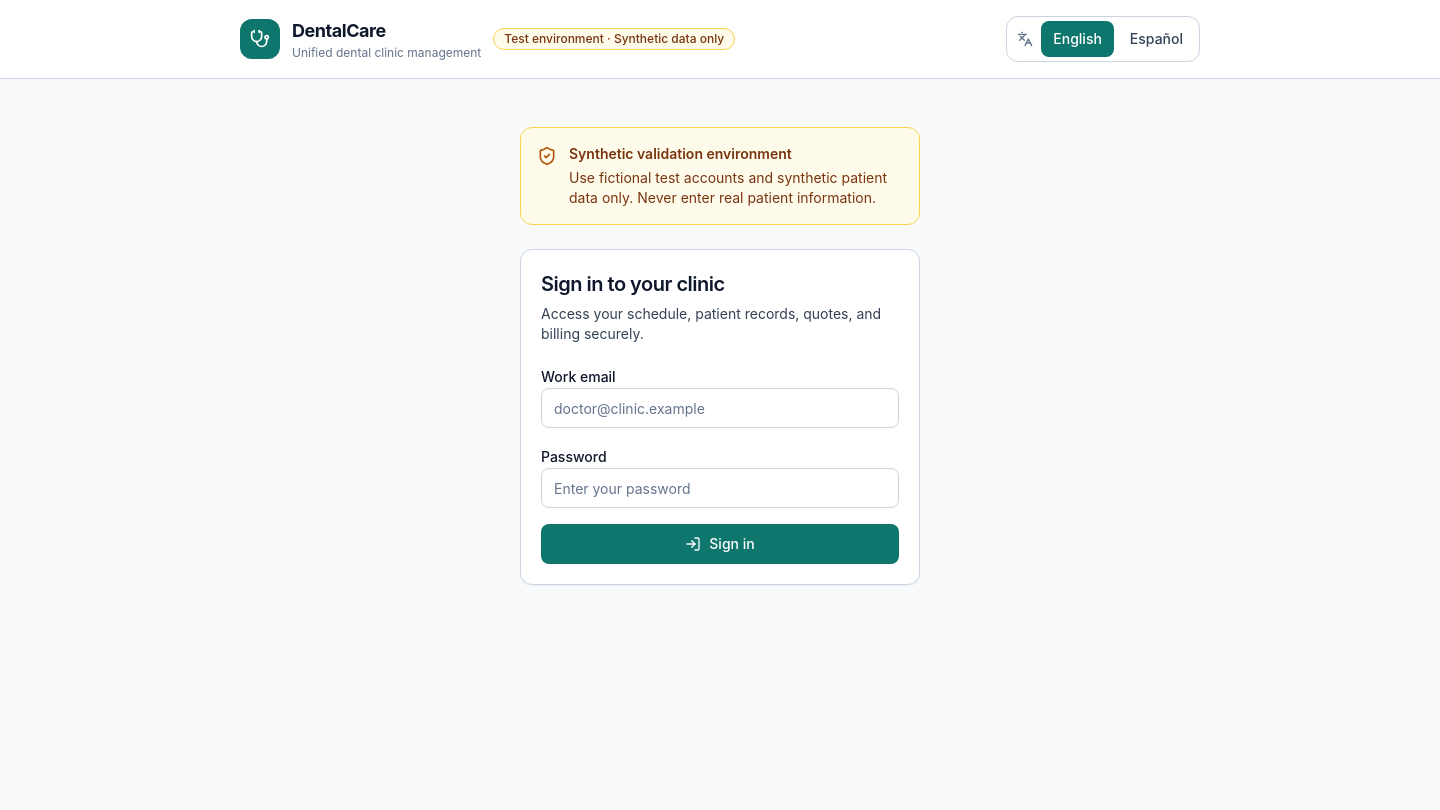
Test: T-03 Authentication, Route Protection, and Clinic Shell Flow › 3. displays clear translated error on invalid credentials in EN and ES without leaving /login
Expected: the heading "Sign in to your clinic" is shown, [541,272,725,296]
Type "wrong@dentalcare.test" into the field labelled "Work email" at {"x": 720, "y": 408}, box [541,388,899,428]
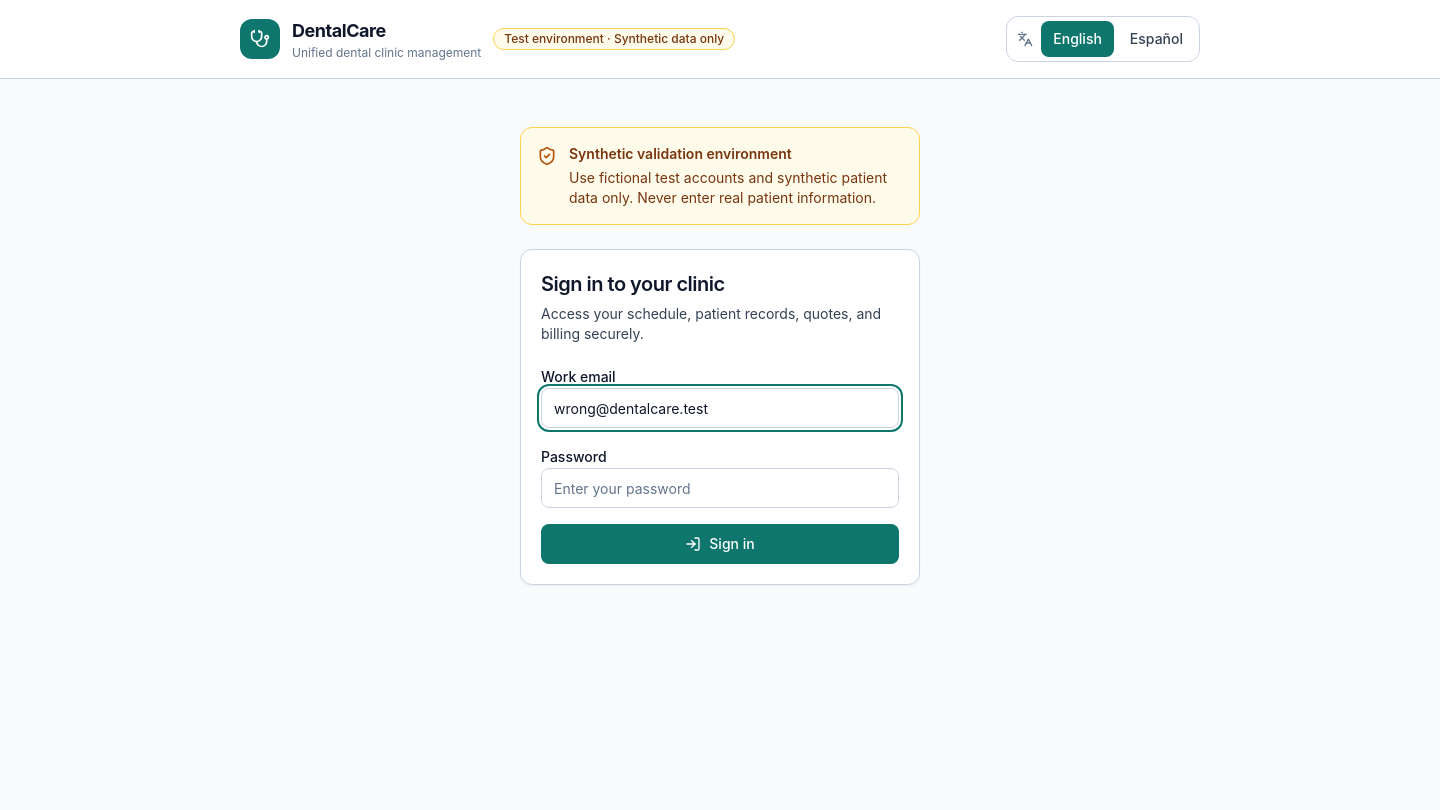
Type "WrongPass999" into the password field labelled "Password" at {"x": 720, "y": 488}, box [541,468,899,508]
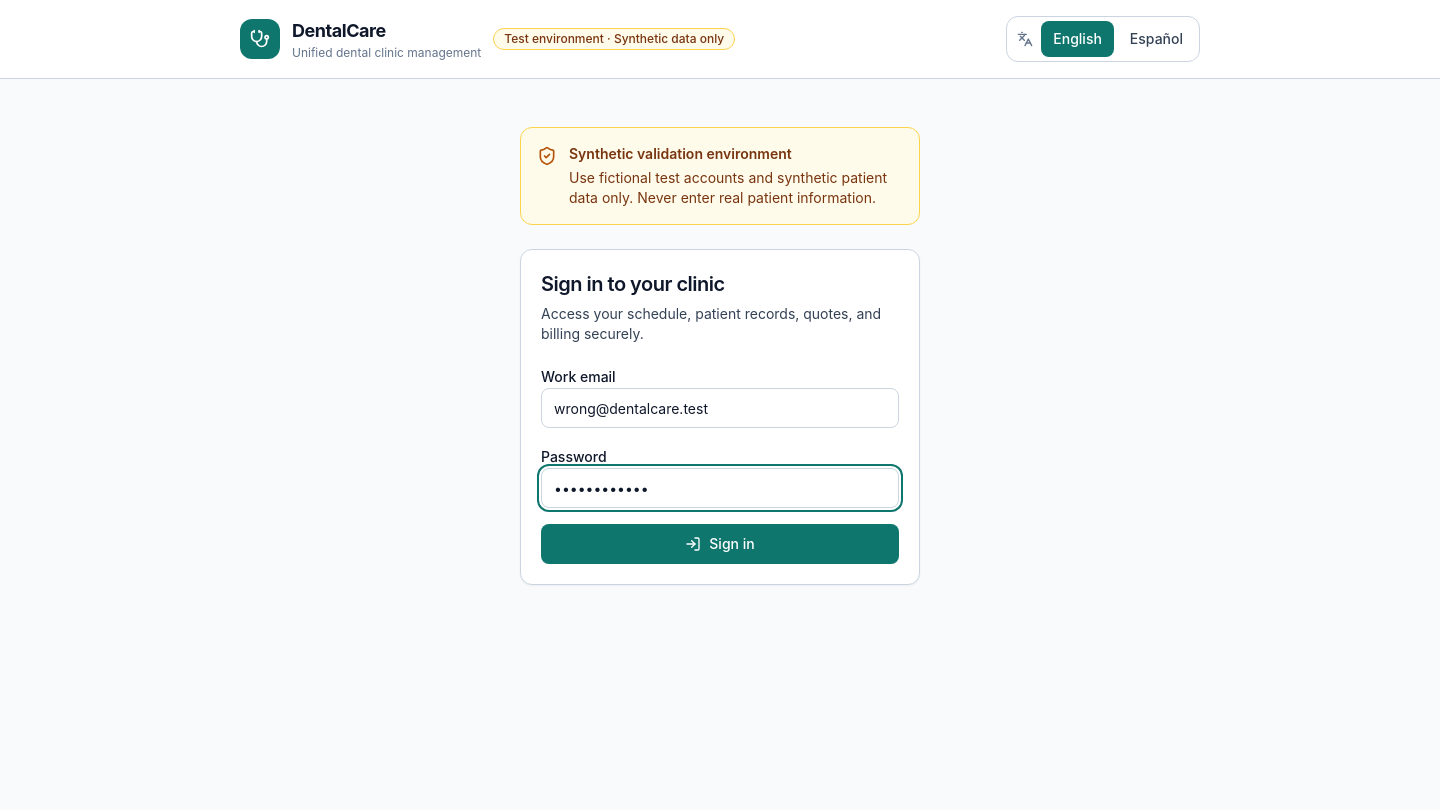
Click the button "Sign in" at {"x": 720, "y": 544}, box [541,524,899,564]
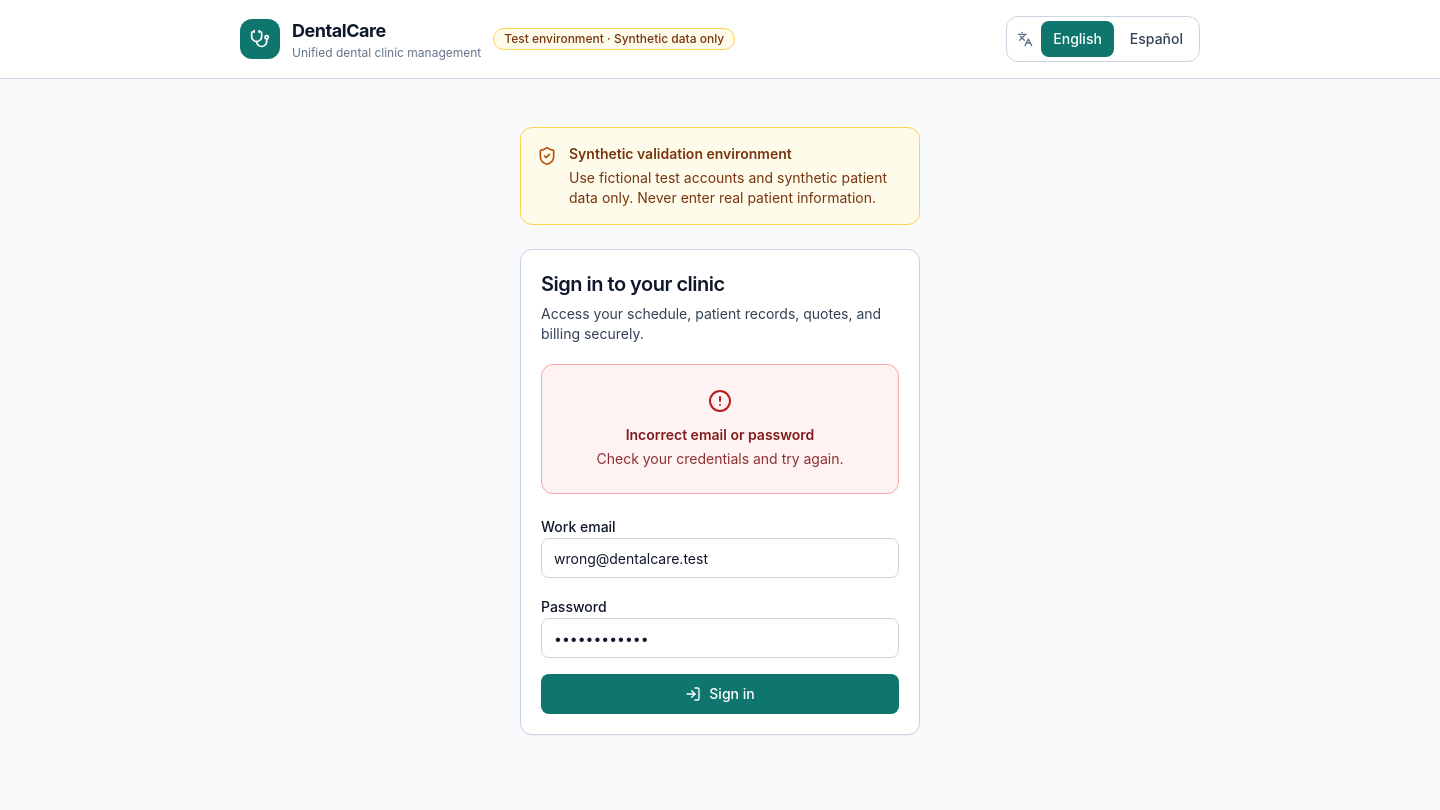
Expected: the heading "Sign in to your clinic" is shown, [541,272,725,296]
Result: the message shows "Incorrect email or password" at [626,426,814,443]
Result: the message shows "Check your credentials and try again." at [596,450,844,467]
Click the button with aria-label "Switch language to Spanish" at {"x": 1156, "y": 39}, box [1118,21,1195,57]
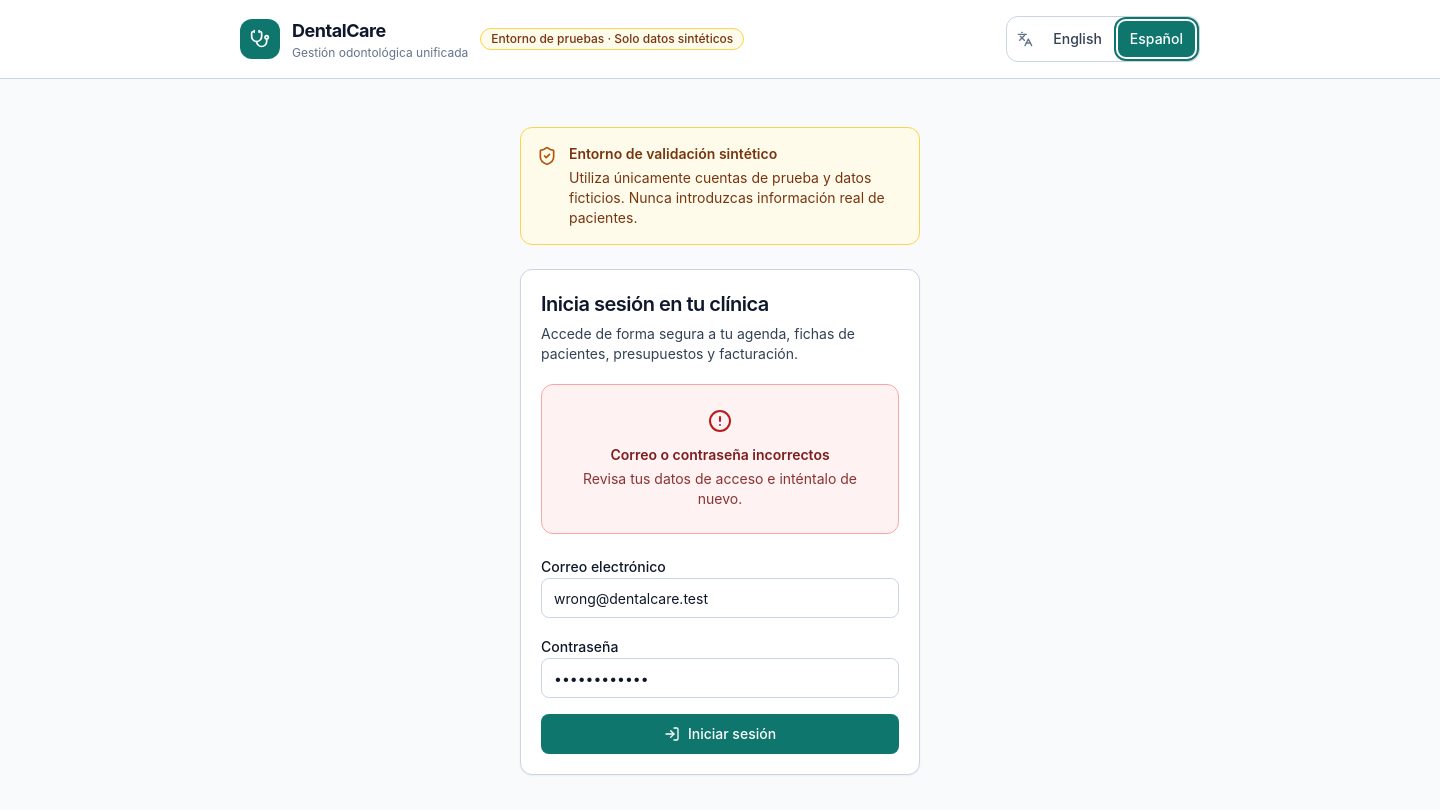
Result: the message shows "Correo o contraseña incorrectos" at [610,446,830,463]
Result: the heading "Inicia sesión en tu clínica" is shown at [541,292,769,316]
